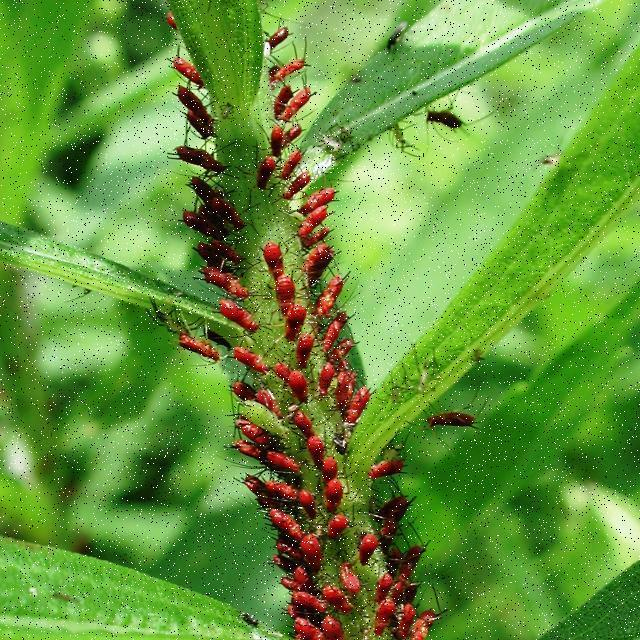Aphids: (421, 386, 494, 444), (253, 223, 300, 281), (209, 292, 260, 340), (250, 151, 285, 202), (285, 327, 323, 373), (273, 268, 314, 309), (309, 354, 339, 401), (277, 299, 317, 334), (284, 406, 319, 437)
